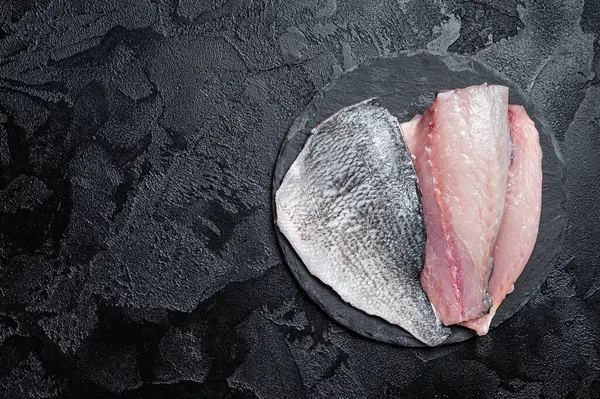bream-fish: (400, 85, 512, 334)
